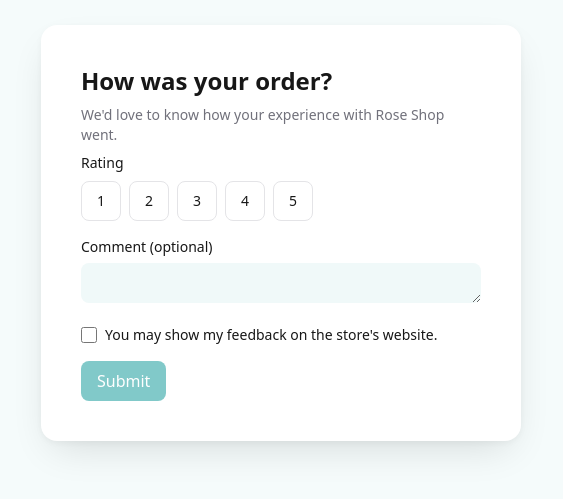
Test case: survey consent withdrawal › offers no withdraw control after an unticked submit
Expected: the checkbox labelled "You may show my feedback on the store's website." is shown, [81,327,97,343]
Click the button "4" at x=245, y=201, box [225,181,265,221]
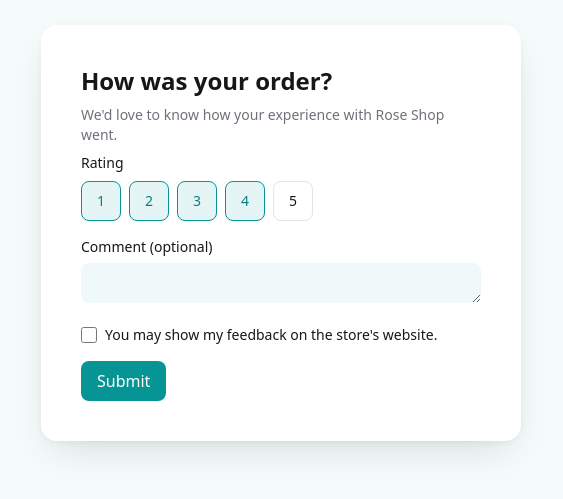
Click the button "Submit" at x=124, y=381, box [81,361,166,401]
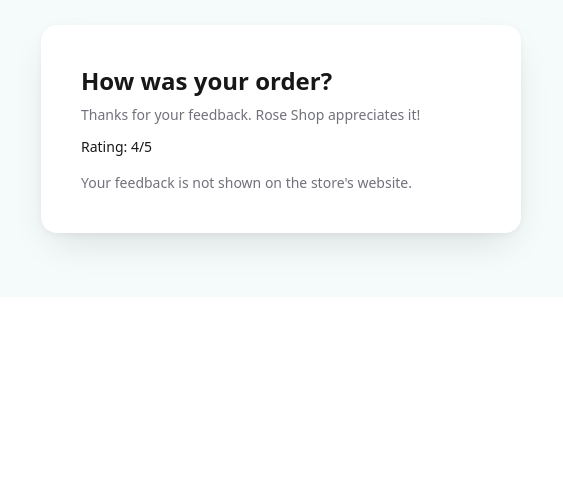
Now the text "Your feedback is not shown on the store's website." is shown, box [81,173,412,192]
